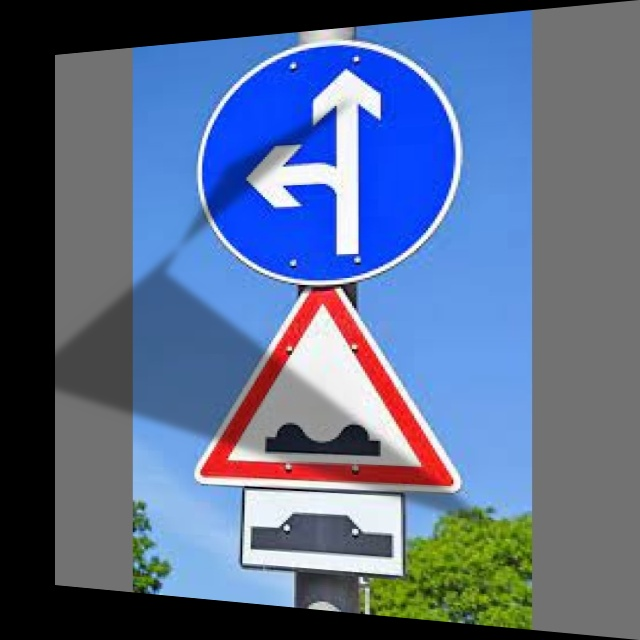Compulsory_Ahead_or_Turn_Left: (190, 33, 476, 287)
